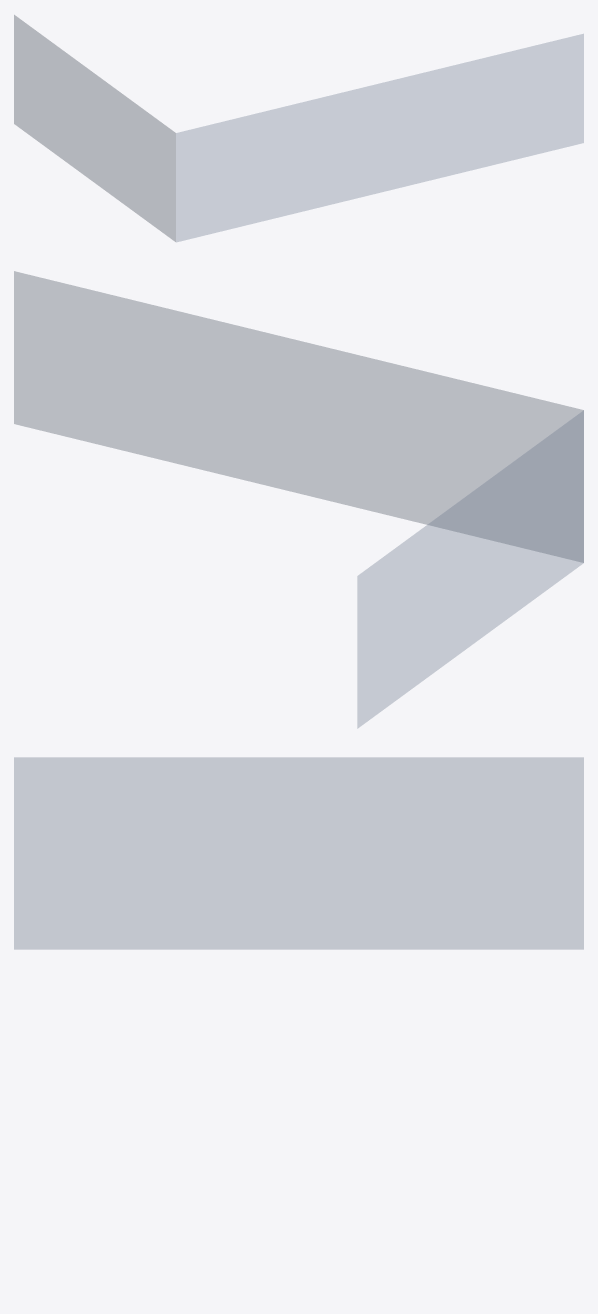
File: glass.glb
3 renders of one model, top to bottom at view 1: azimuth 30°, elevation 25°; view 2: azimuth 150°, elevation 25°; view 3: azimuth 270°, elevation 25°, orthographic. The views are drawn at different scales.
Parts seen in each view (by area): view 1: Plane.003; view 2: Plane.003; view 3: Plane.003.
Boxes of the visible parts, bbox=[...] form: Plane.003: bbox=[14, 15, 583, 242]; Plane.003: bbox=[14, 271, 583, 728]; Plane.003: bbox=[14, 757, 583, 949].
Bounding box in the file's own units: 18.4 × 4.72 × 12.66.
